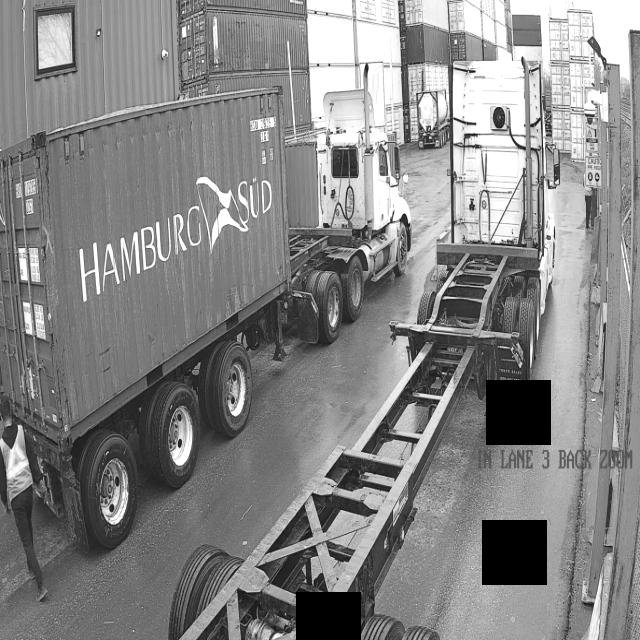container_company_logo: (73, 167, 278, 312)
truck_with_container: (0, 89, 411, 551)
truck_without_container: (204, 105, 566, 640)
